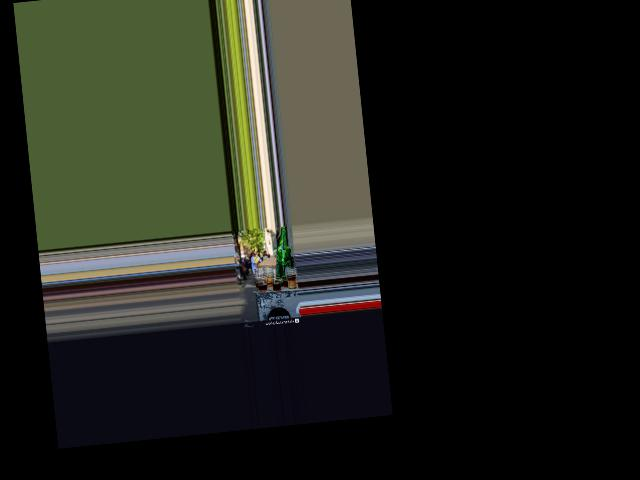beer: (270, 226, 293, 284)
